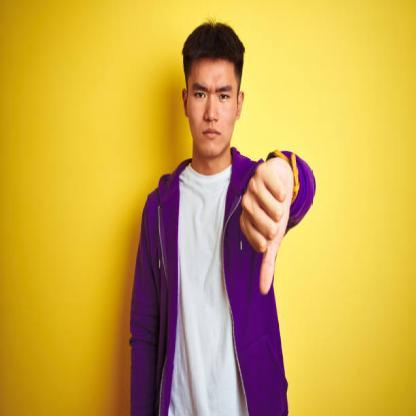thumb_down: (235, 157, 292, 299)
